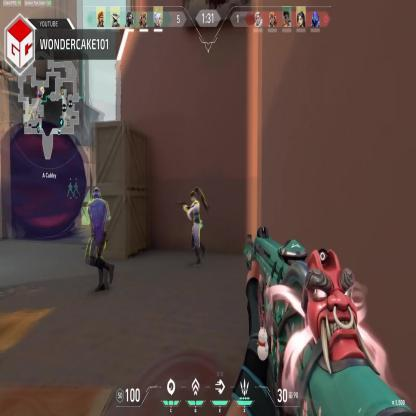enemy: (86, 185, 116, 293), (182, 183, 206, 262)
enemy_head: (92, 186, 102, 200), (190, 192, 196, 204)
